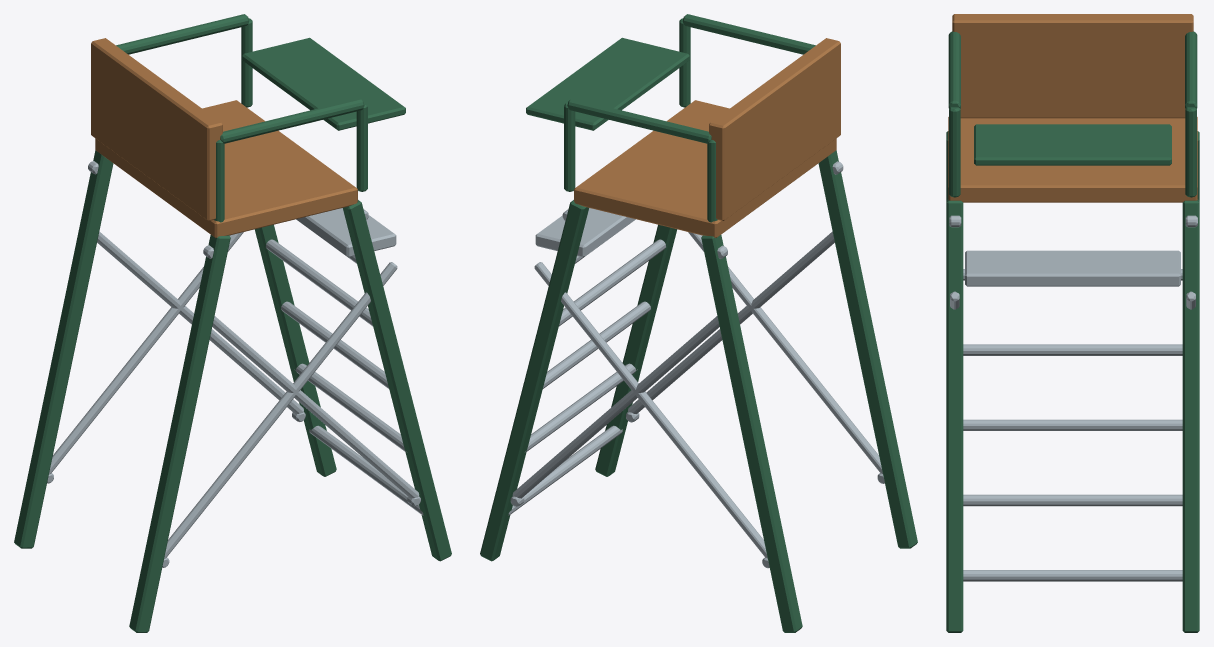
The model's file is b09_tennis_umpire_chair.glb.
The picture shows the model from 3 angles, left to right: view 1: azimuth 30°, elevation 25°; view 2: azimuth 150°, elevation 25°; view 3: azimuth 270°, elevation 25°; orthographic projection. The views are drawn at different scales.
Parts seen in each view (by area): view 1: b09_tennis_umpire_chair; view 2: b09_tennis_umpire_chair; view 3: b09_tennis_umpire_chair.
Boxes of the visible parts, bbox=[...] form: b09_tennis_umpire_chair: bbox=[14, 14, 451, 632]; b09_tennis_umpire_chair: bbox=[480, 14, 917, 632]; b09_tennis_umpire_chair: bbox=[946, 14, 1199, 632].
Bounding box in the file's own units: 1.46 × 2.16 × 0.985.
